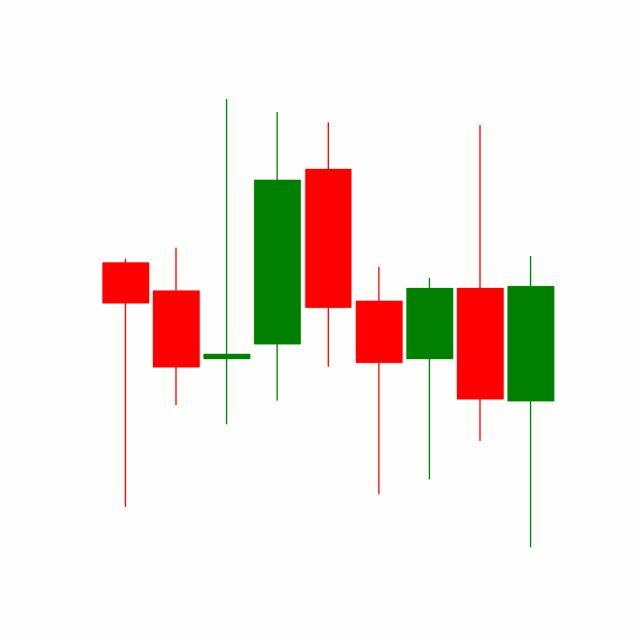Hikkake Pattern: (252, 108, 506, 499)
